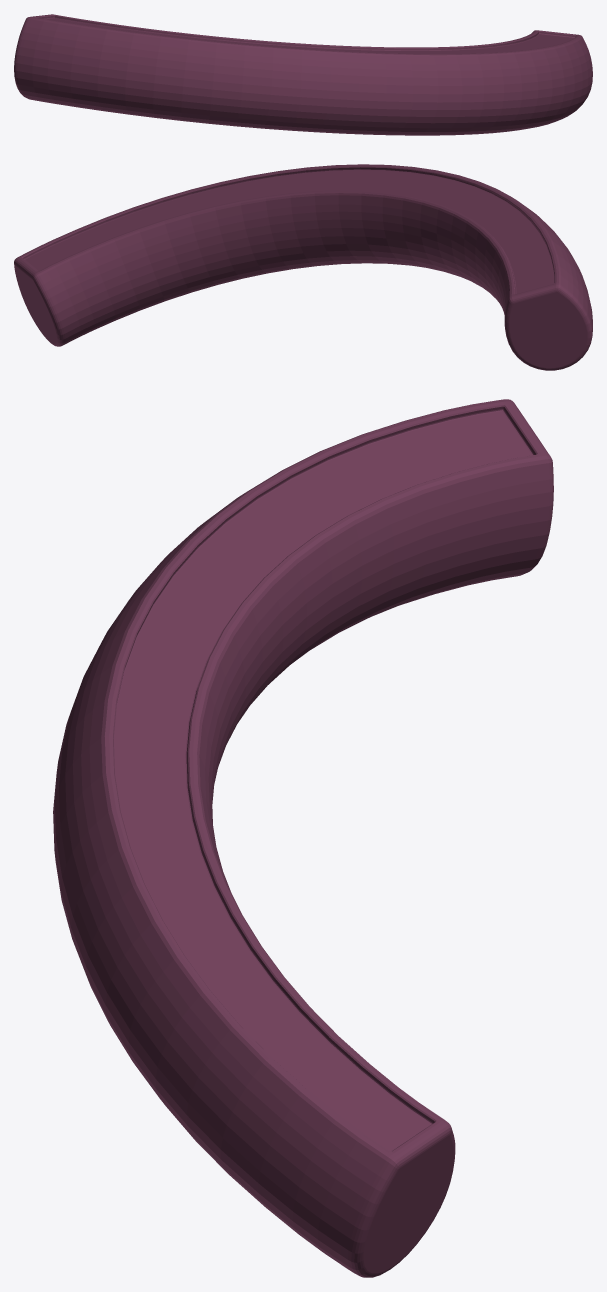
Rendered from Lampi.fbx.
3 renders of one model, top to bottom at view 1: azimuth 30°, elevation 25°; view 2: azimuth 150°, elevation 25°; view 3: azimuth 270°, elevation 25°, orthographic. The views are drawn at different scales.
Parts seen in each view (by area): view 1: BeInspiration_69:Circle007; view 2: BeInspiration_69:Circle007; view 3: BeInspiration_69:Circle007.
Boxes of the visible parts, x1,y1,x2,y2 form: BeInspiration_69:Circle007: (14,14,592,135); BeInspiration_69:Circle007: (14,164,592,370); BeInspiration_69:Circle007: (53,399,553,1277).
Bounding box in the file's own units: 72.34 × 25.07 × 28.52.
